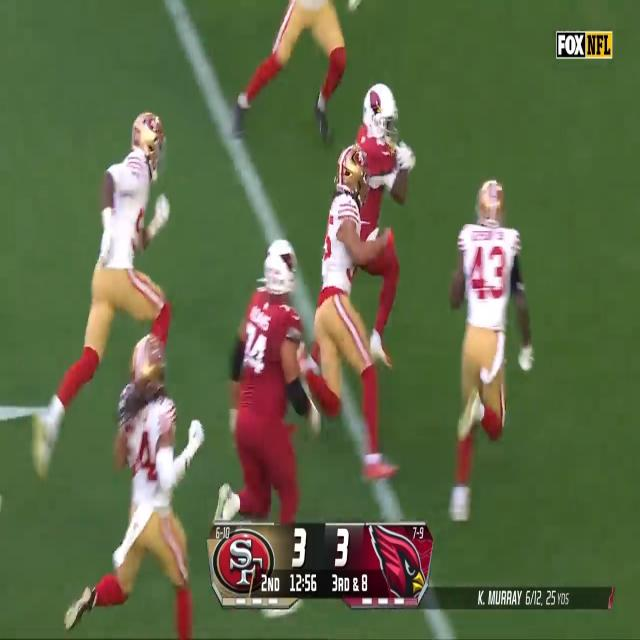Player: (70, 108, 176, 401), (446, 178, 522, 532), (235, 240, 307, 512), (123, 336, 189, 630), (317, 134, 365, 418), (360, 81, 398, 342)
